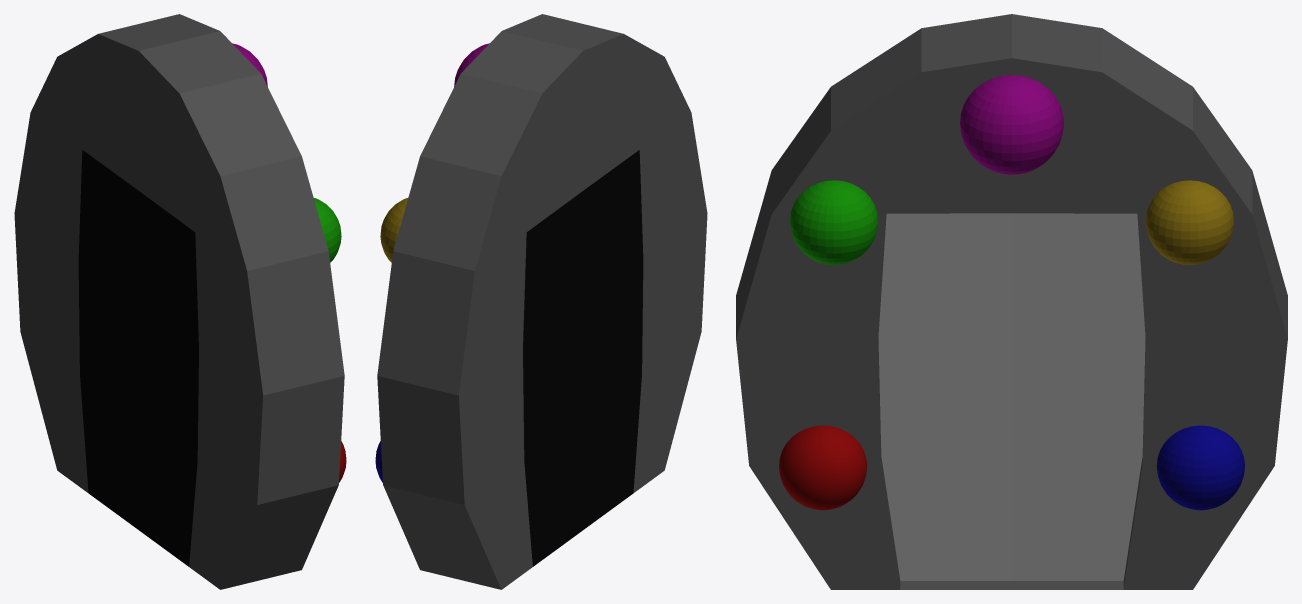
File: 宝石扉(光ってない）.fbx
The picture shows the model from 3 angles, left to right: view 1: azimuth 30°, elevation 25°; view 2: azimuth 150°, elevation 25°; view 3: azimuth 270°, elevation 25°; orthographic projection. The views are drawn at different scales.
Parts seen in each view (by area): view 1: Cube, Cube.004; view 2: Cube, Cube.001; view 3: Cube, Cube.007, Cube.006, Cube.002, Cube.001, Cube.004, Cube.003, Cube.005.
Part boxes in pixels (x1,y1,x2,y2): Cube: [14, 14, 344, 589]; Cube.004: [314, 198, 341, 262]; Cube: [377, 14, 707, 589]; Cube.001: [380, 198, 407, 262]; Cube: [736, 14, 1287, 589]; Cube.007: [878, 213, 1014, 580]; Cube.006: [1013, 213, 1145, 580]; Cube.002: [960, 75, 1063, 174]; Cube.001: [1145, 180, 1233, 264]; Cube.004: [790, 180, 878, 264]; Cube.003: [779, 425, 867, 510]; Cube.005: [1156, 425, 1244, 510].
Size of the model in its own units: 260 by 969 by 912.
